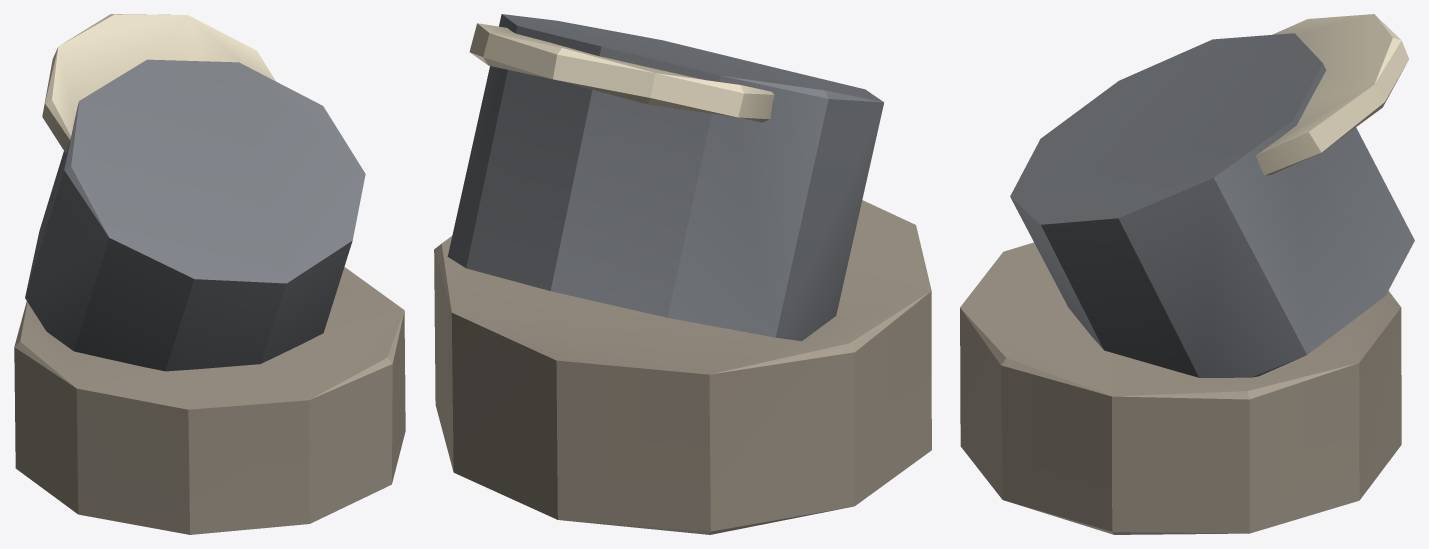
The model's file is uplight_low.glb.
3 views of the same model, side by side, from view 1: azimuth 30°, elevation 25°; view 2: azimuth 150°, elevation 25°; view 3: azimuth 270°, elevation 25° (orthographic). The views are drawn at different scales.
Bounding box in the file's own units: 0.2663 × 0.2853 × 0.2866.
